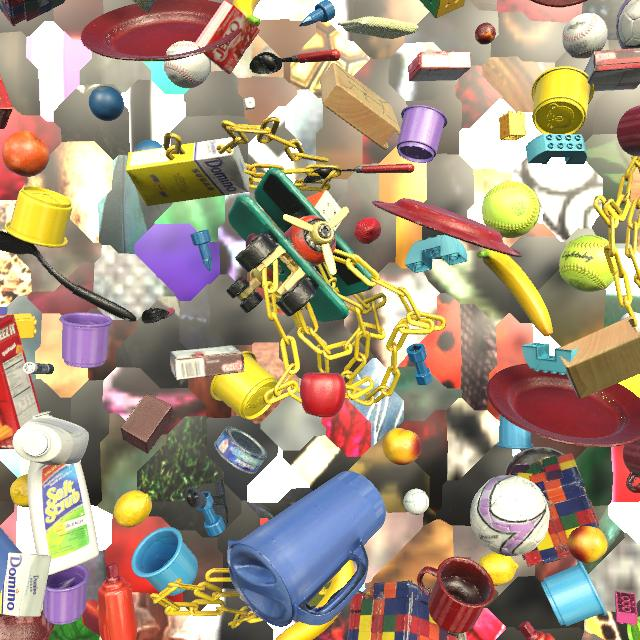ycb_003_cracker_box: (0, 314, 41, 449), (0, 75, 13, 129)
ycb_004_sugar_box: (126, 137, 249, 206), (0, 552, 52, 617)
ycb_007_tuna_fish_can: (214, 427, 267, 474)
ycb_008_pudding_box: (170, 345, 244, 380), (584, 48, 640, 91)
ycb_009_gelatin_box: (195, 0, 260, 74), (408, 51, 471, 82)
ycb_011_banana: (477, 249, 553, 337), (275, 560, 355, 640), (232, 0, 260, 27)
ycb_012_strawberry: (354, 217, 381, 244)
ycb_013_apple: (300, 372, 346, 417)
ycb_014_lemon: (114, 490, 152, 527), (478, 552, 518, 586), (10, 474, 29, 507)
ycb_015_peach: (567, 526, 608, 563), (383, 428, 421, 465)
ycb_017_orange: (2, 131, 50, 177)
ycb_018_plum: (245, 233, 259, 247)
